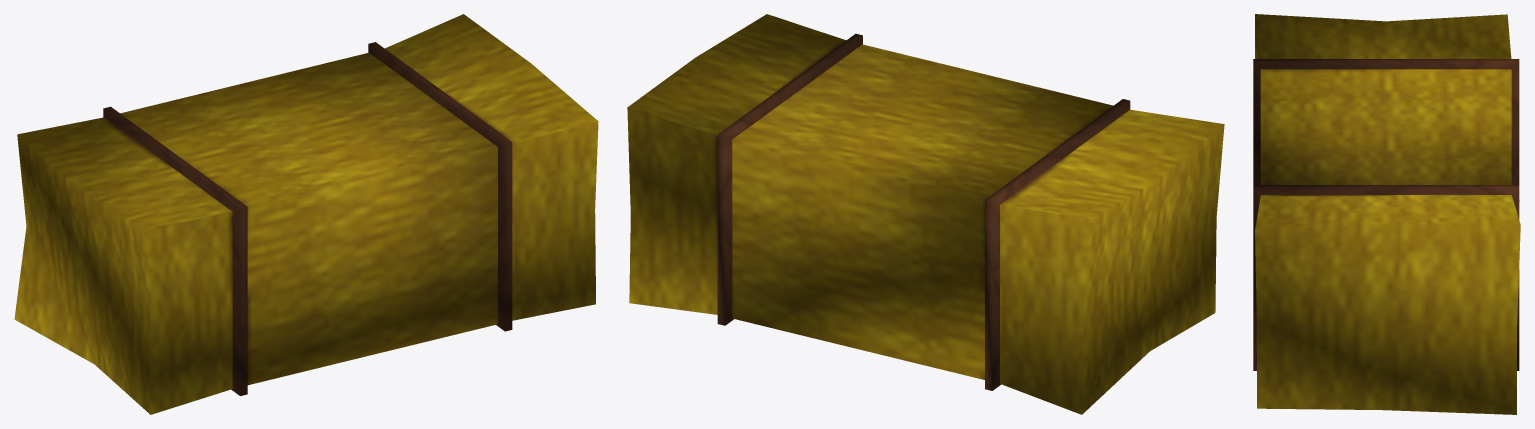
Rendered from Feno_1.glb.
3 views of the same model, side by side, from view 1: azimuth 30°, elevation 25°; view 2: azimuth 150°, elevation 25°; view 3: azimuth 270°, elevation 25° (orthographic). The views are drawn at different scales.
Parts seen in each view (by area): view 1: Feno.1; view 2: Feno.1; view 3: Feno.1.
Boxes of the visible parts, box(x1,y1,x2,y2) form: Feno.1: box(14, 14, 598, 414); Feno.1: box(627, 14, 1224, 414); Feno.1: box(1253, 14, 1520, 414).
Size of the model in its own units: 1.59 by 0.6534 by 0.833.
Materials: 1 (1 with a texture image).
